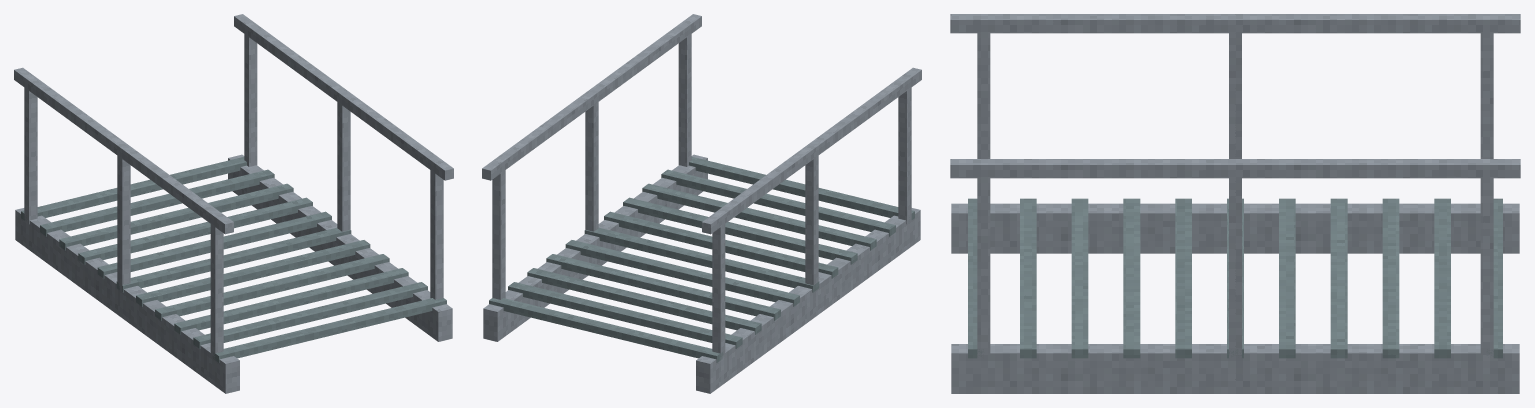
Rendered from level_blockout_dam_service_grating.glb.
3 views of the same model, side by side, from view 1: azimuth 30°, elevation 25°; view 2: azimuth 150°, elevation 25°; view 3: azimuth 270°, elevation 25° (orthographic). The views are drawn at different scales.
Visible parts, largest first — view 1: level_blockout_dam_service_grating; view 2: level_blockout_dam_service_grating; view 3: level_blockout_dam_service_grating.
Boxes of the visible parts, x1=… form: level_blockout_dam_service_grating: x1=14, y1=14, x2=453, y2=393; level_blockout_dam_service_grating: x1=482, y1=14, x2=921, y2=393; level_blockout_dam_service_grating: x1=950, y1=14, x2=1520, y2=393.
Size of the model in its own units: 1.91 by 1.36 by 3.06.
Materials: 2 (2 with a texture image).
